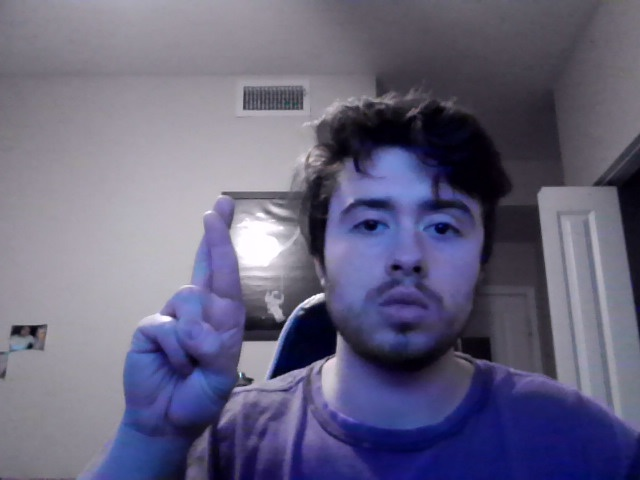r: (122, 194, 246, 465)
